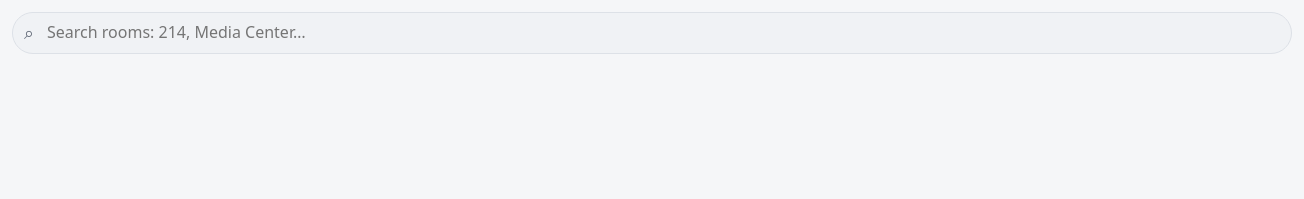
Test: RoomSearch › lists matches as a listbox and picks with the keyboard
Type "21" into the dropdown labelled "Search rooms" at (652, 33), box [12,12,1292,54]
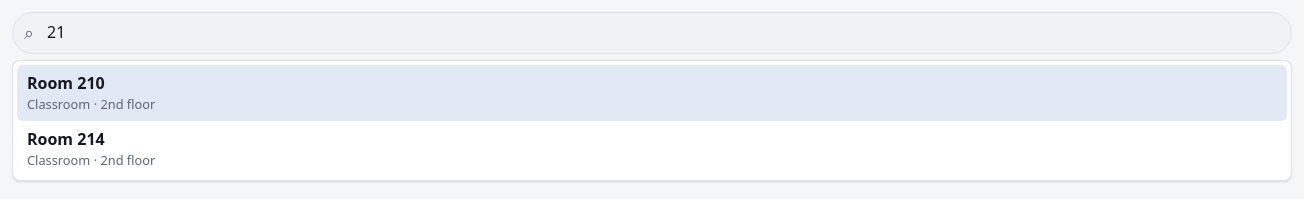
Check: the options read "Room 210Classroom · 2nd floor", "Room 214Classroom · 2nd floor", in this order, box [17,65,1287,121]; [27,128,155,169]
Check: the dropdown named "Search rooms" is expanded
Press ArrowDown in the dropdown named "Search rooms", box [12,12,1292,54]
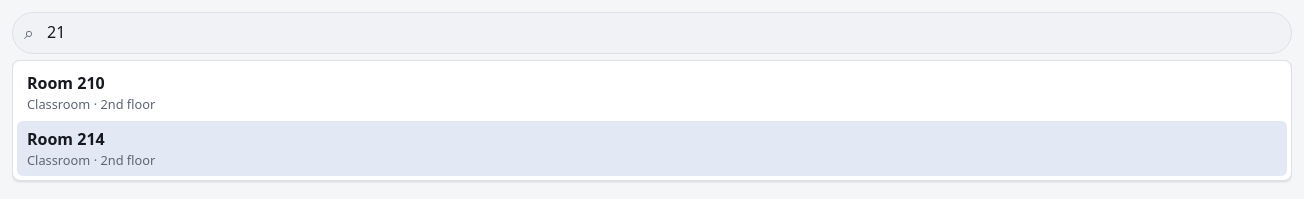
Check: the option "Room 214 Classroom · 2nd floor" is selected, box [17,121,1287,176]
Press Enter in the dropdown named "Search rooms", box [12,12,1292,54]
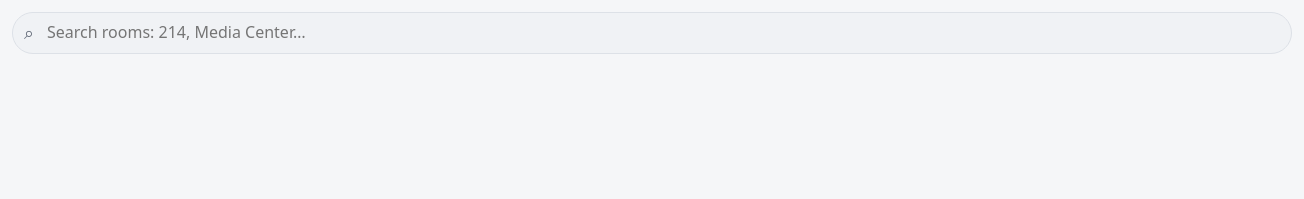
Check: the dropdown labelled "Search rooms" is empty, box [12,12,1292,54]
